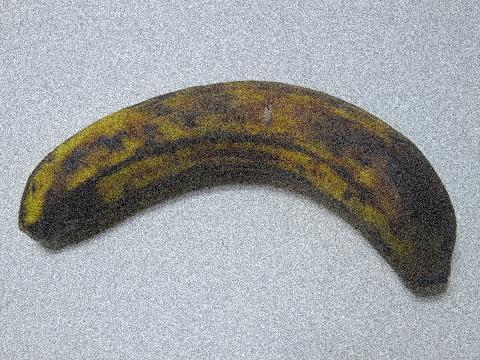overripe: (10, 71, 461, 298)
